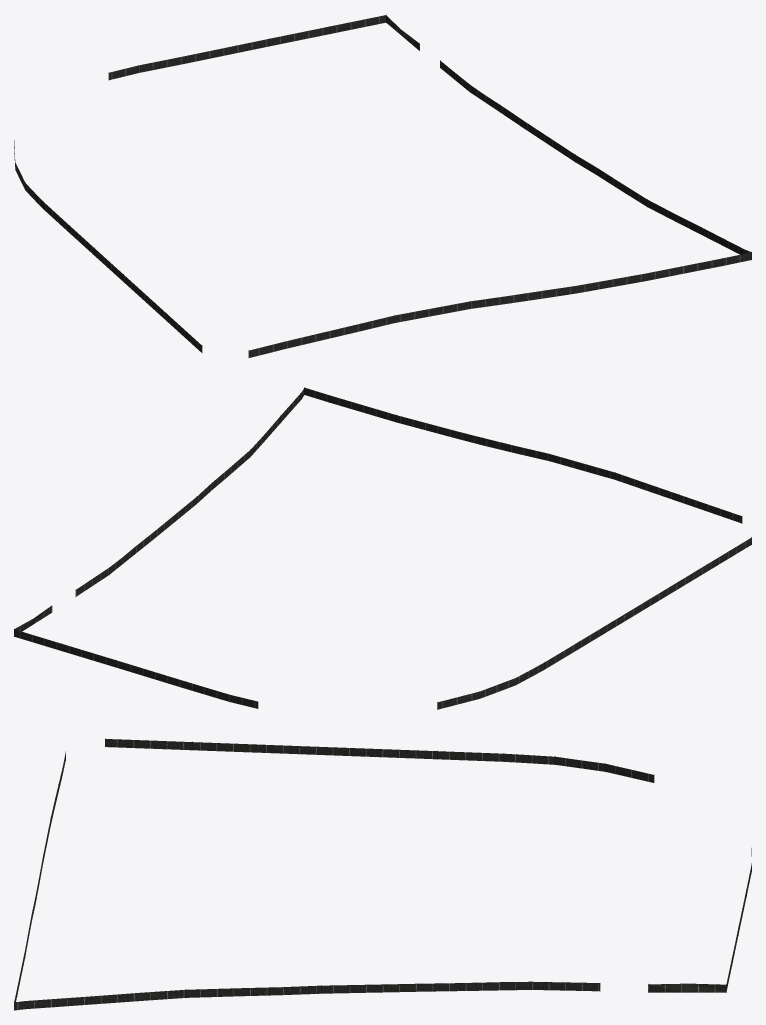
The model's file is stadt_fence.obj.
3 renders of one model, top to bottom at view 1: azimuth 30°, elevation 25°; view 2: azimuth 150°, elevation 25°; view 3: azimuth 270°, elevation 25°, orthographic. The views are drawn at different scales.
Parts seen in each view (by area): view 1: stadt_fence; view 2: stadt_fence; view 3: stadt_fence.
Boxes of the visible parts, x1,y1,x2,y2 form: stadt_fence: (14, 14, 751, 357); stadt_fence: (14, 387, 751, 709); stadt_fence: (14, 738, 751, 1010).
Size of the model in its own units: 188 by 5.85 by 222.
